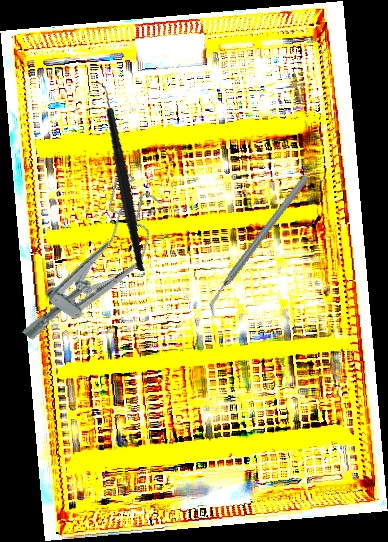Chopper: (172, 173, 345, 318), (63, 79, 174, 272)
Speculum: (10, 169, 179, 365)
